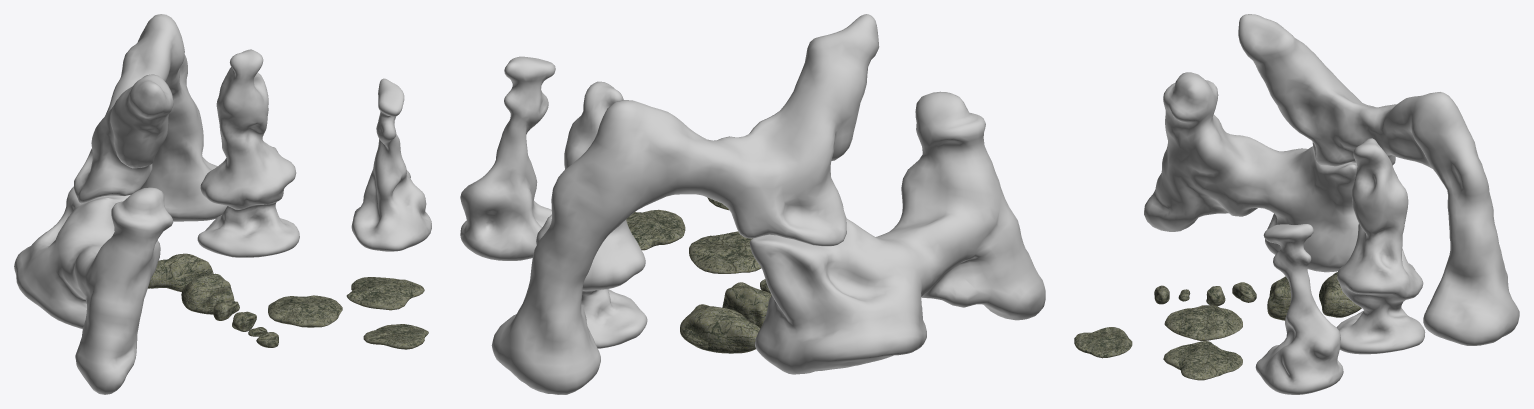
3 renders of one model, left to right at view 1: azimuth 30°, elevation 25°; view 2: azimuth 150°, elevation 25°; view 3: azimuth 270°, elevation 25°, orthographic. The views are drawn at different scales.
Parts seen in each view (by area): view 1: BigArchBottom, BigArchTop, SinglePillar2, SinglePillar1, FlatRock3, FlatRock2, SmallRock2, SmallRock6, FlatRock1, SmallRock4, SmallRock5; view 2: BigArchTop, BigArchBottom, SinglePillar1, SinglePillar2, SmallRock2, FlatRock3, FlatRock2, SmallRock6; view 3: BigArchTop, BigArchBottom, SinglePillar2, SinglePillar1, FlatRock2, FlatRock3, FlatRock1, SmallRock2, SmallRock6.
Part boxes in pixels (left/top/right/bottom): BigArchBottom: left=14, top=186, right=173, bottom=394; BigArchTop: left=74, top=14, right=226, bottom=221; SinglePillar2: left=197, top=49, right=299, bottom=257; SinglePillar1: left=351, top=78, right=431, bottom=251; FlatRock3: left=268, top=295, right=342, bottom=327; FlatRock2: left=346, top=277, right=424, bottom=310; SmallRock2: left=148, top=253, right=213, bottom=291; SmallRock6: left=181, top=273, right=234, bottom=314; FlatRock1: left=363, top=324, right=428, bottom=349; SmallRock4: left=232, top=311, right=256, bottom=331; SmallRock5: left=213, top=301, right=239, bottom=320; BigArchTop: left=491, top=14, right=879, bottom=394; BigArchBottom: left=749, top=91, right=1045, bottom=374; SinglePillar1: left=460, top=56, right=555, bottom=260; SinglePillar2: left=536, top=81, right=647, bottom=348; SmallRock2: left=680, top=304, right=760, bottom=353; FlatRock3: left=689, top=231, right=761, bottom=273; FlatRock2: left=626, top=209, right=685, bottom=250; SmallRock6: left=722, top=282, right=771, bottom=328; BigArchTop: left=1238, top=14, right=1519, bottom=345; BigArchBottom: left=1144, top=72, right=1358, bottom=272; SinglePillar2: left=1336, top=138, right=1425, bottom=354; SinglePillar1: left=1255, top=224, right=1343, bottom=394; FlatRock2: left=1163, top=340, right=1242, bottom=380; FlatRock3: left=1164, top=305, right=1242, bottom=340; FlatRock1: left=1074, top=327, right=1132, bottom=358; SmallRock2: left=1319, top=272, right=1361, bottom=317; SmallRock6: left=1267, top=276, right=1290, bottom=320.
Bounding box in the file's own units: 25.87 × 15.75 × 24.38.
